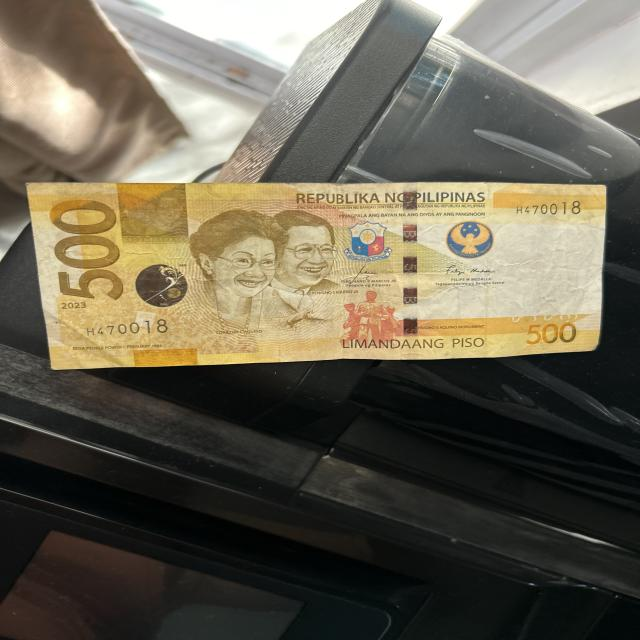concealed_value: (120, 182, 189, 240)
optically_variable_device: (132, 267, 188, 307)
watermark: (498, 213, 598, 312)
